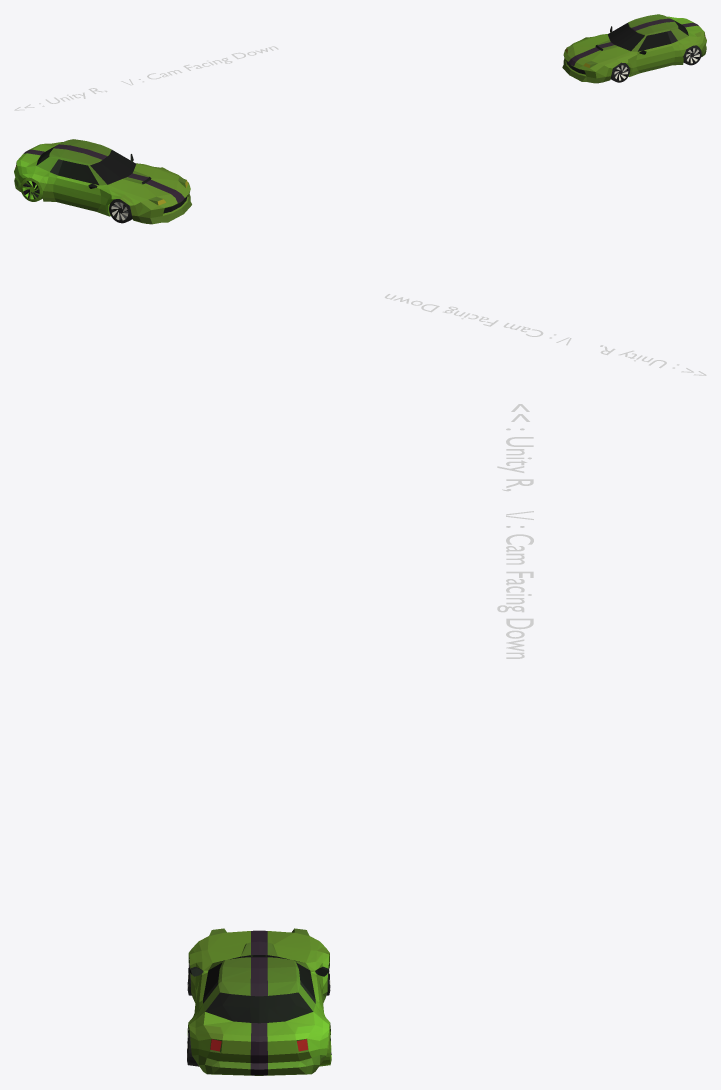
File: Intro Car v1.2 Deleting UVs take 2.fbx
3 renders of one model, top to bottom at view 1: azimuth 30°, elevation 25°; view 2: azimuth 150°, elevation 25°; view 3: azimuth 270°, elevation 25°, orthographic. The views are drawn at different scales.
Parts seen in each view (by area): view 1: Car, Text, Front R, Back R; view 2: Car, Text, Front L, Back L; view 3: Car, Text.
Part boxes in pixels (bbox=[...]): Car: bbox=[562, 14, 706, 83]; Text: bbox=[14, 46, 278, 110]; Front R: bbox=[610, 62, 629, 82]; Back R: bbox=[683, 45, 701, 65]; Car: bbox=[14, 139, 191, 224]; Text: bbox=[384, 294, 706, 375]; Front L: bbox=[109, 199, 132, 223]; Back L: bbox=[20, 177, 42, 201]; Car: bbox=[187, 928, 330, 1075]; Text: bbox=[497, 404, 533, 658].
Bounding box in the file's own units: 2050 × 126 × 498.
